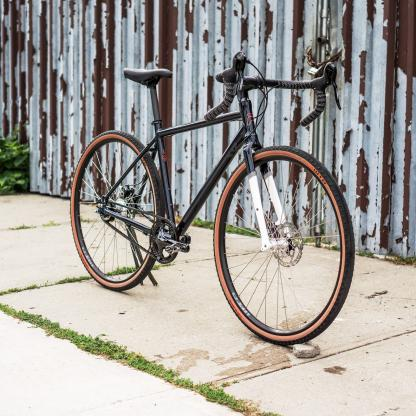Bike: (67, 66, 354, 341)
